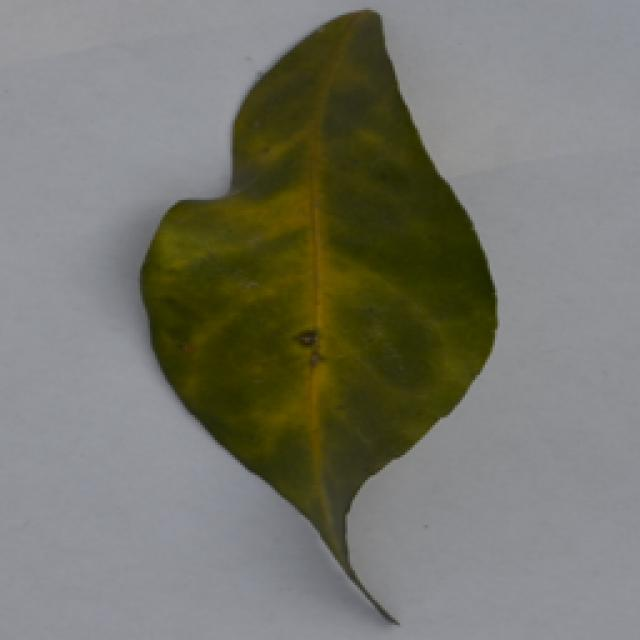blackspot: (127, 1, 531, 632)
